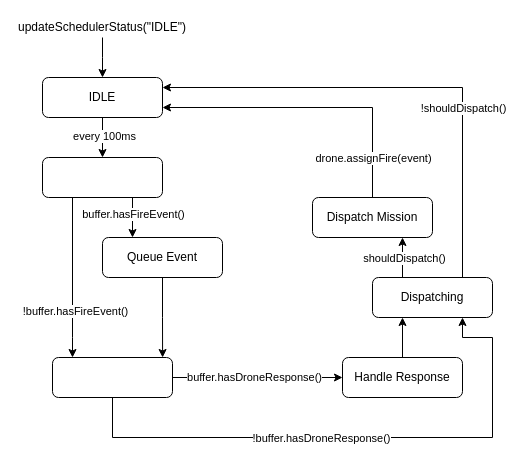
This 523x463 diagram has some shape labels left out. The shapes that lost their labels are listed below. From the top down, each one's centre as x and y in pixels, then its label:
At (102,177): "Check Events".
At (112,377): "Check Drone Response".
